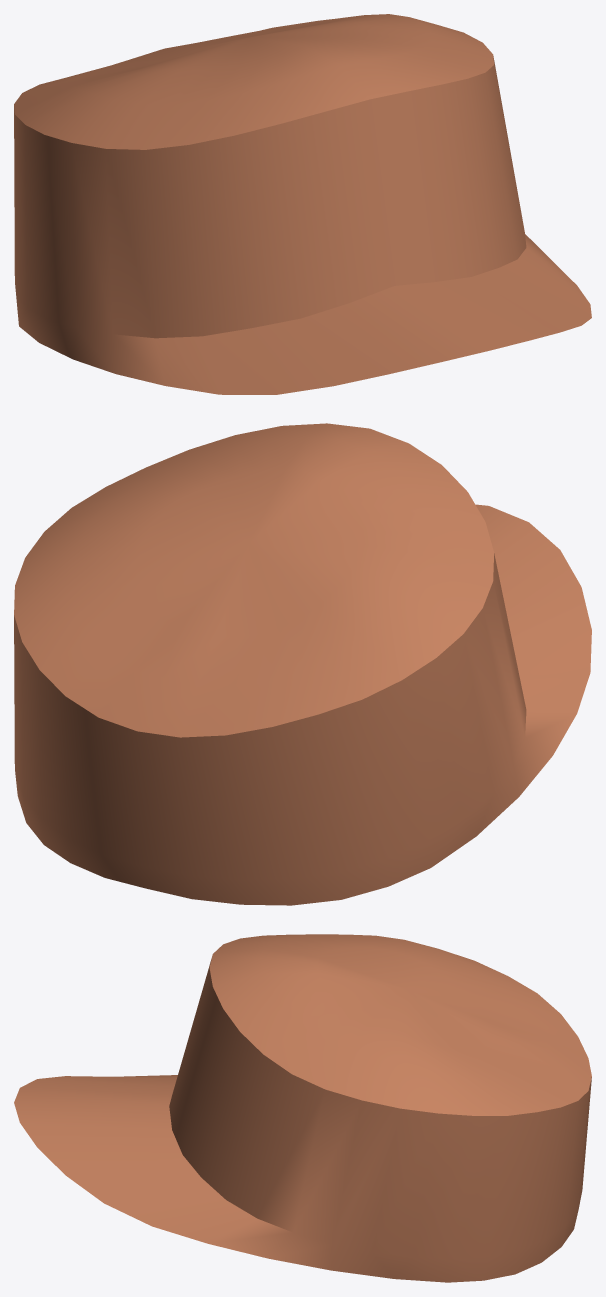
The model's file is WorkerHat.obj.
3 views of the same model, one above another, from view 1: azimuth 30°, elevation 25°; view 2: azimuth 150°, elevation 25°; view 3: azimuth 270°, elevation 25° (orthographic). The views are drawn at different scales.
Visible parts, largest first — view 1: WorkerHat_Cylinder; view 2: WorkerHat_Cylinder; view 3: WorkerHat_Cylinder.
Boxes of the visible parts, x1,y1,x2,y2 form: WorkerHat_Cylinder: (14,14,591,394); WorkerHat_Cylinder: (14,423,591,905); WorkerHat_Cylinder: (14,934,591,1282).
Bounding box in the file's own units: 0.7876 × 0.5233 × 1.08.
Materials: 1 (1 with a texture image).
